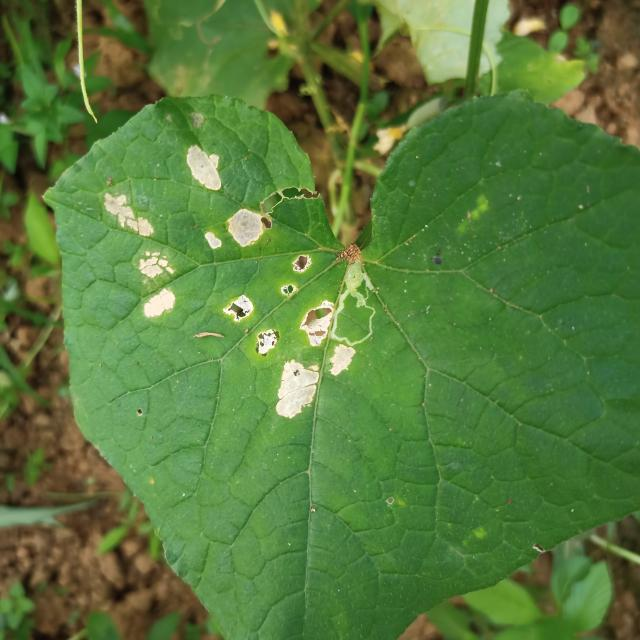disease_cucumber: (188, 150, 354, 420), (102, 191, 177, 321)
